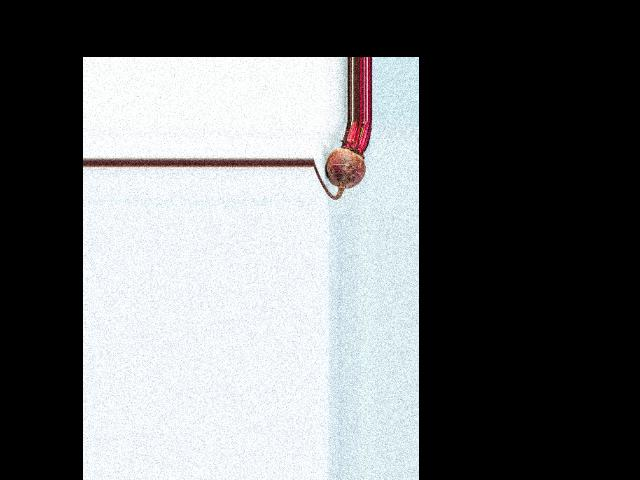beet: (313, 119, 372, 199)
